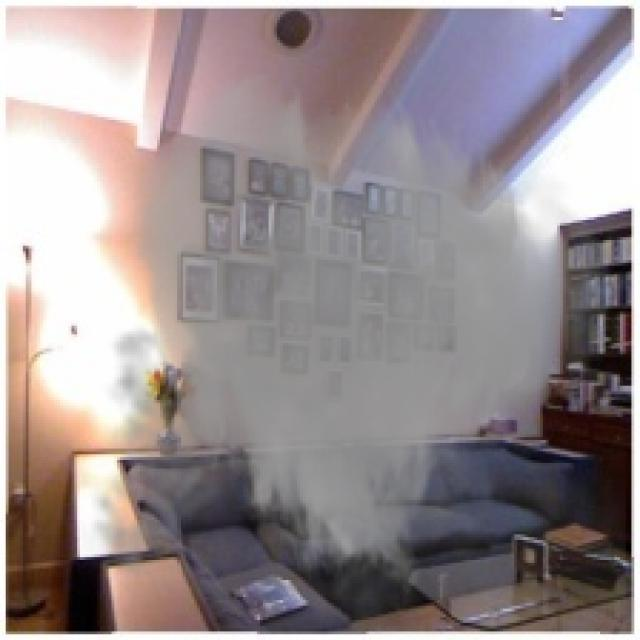Smoke: (74, 68, 626, 634)
